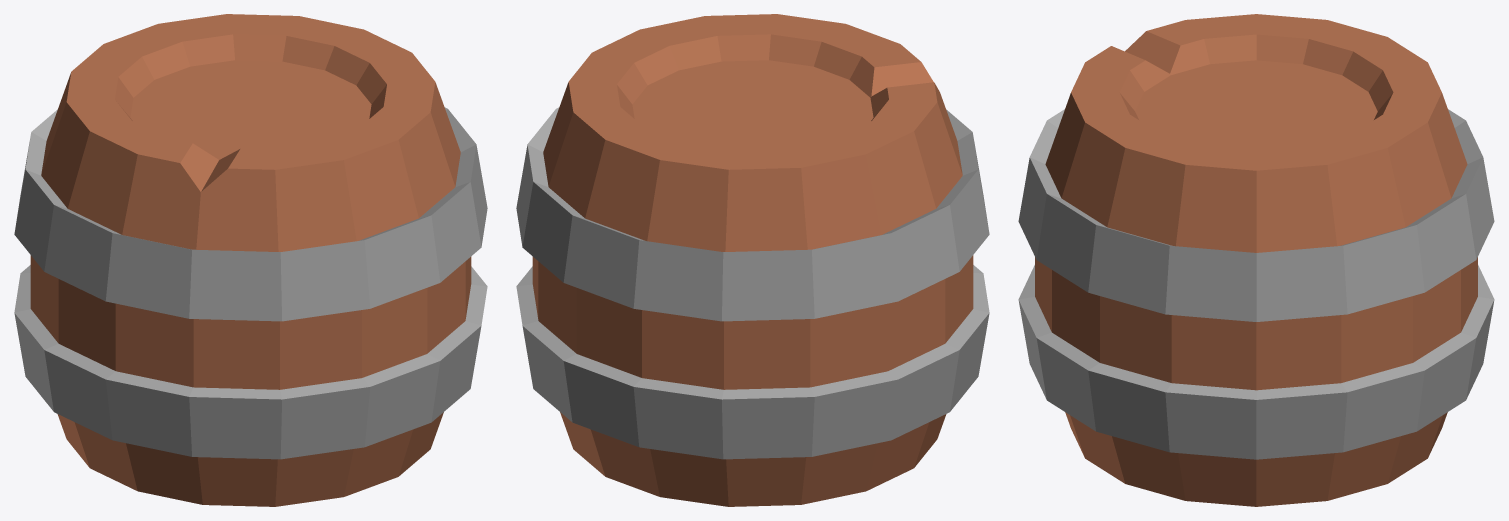
File: barrel.fbx
3 views of the same model, side by side, from view 1: azimuth 30°, elevation 25°; view 2: azimuth 150°, elevation 25°; view 3: azimuth 270°, elevation 25° (orthographic).
Visible parts, largest first — view 1: Cylinder, Cylinder.001; view 2: Cylinder, Cylinder.001; view 3: Cylinder, Cylinder.001.
Part boxes in pixels (bbox=[...]): Cylinder: bbox=[30, 14, 471, 506]; Cylinder.001: bbox=[14, 107, 487, 459]; Cylinder: bbox=[532, 14, 973, 506]; Cylinder.001: bbox=[516, 107, 989, 459]; Cylinder: bbox=[1035, 14, 1477, 506]; Cylinder.001: bbox=[1018, 109, 1494, 459].
Size of what is drawn, in the model's own units: 257 by 200 by 257.
